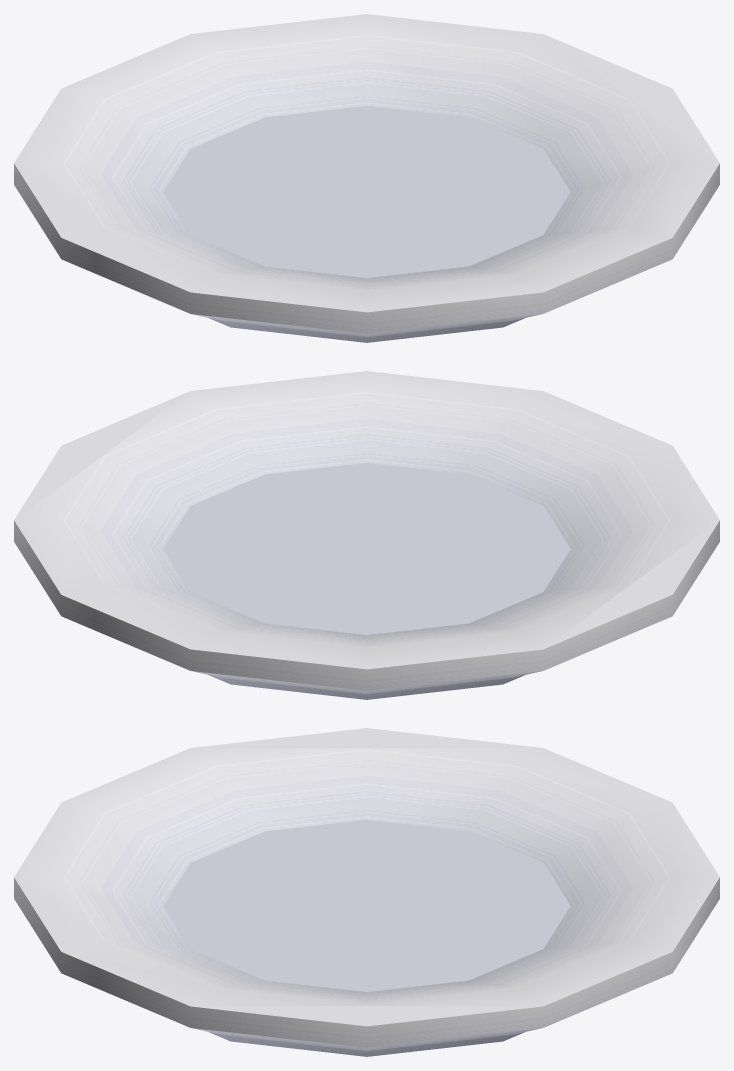
Rendered from plate.glb.
3 renders of one model, top to bottom at view 1: azimuth 30°, elevation 25°; view 2: azimuth 150°, elevation 25°; view 3: azimuth 270°, elevation 25°, orthographic.
Parts seen in each view (by area): view 1: plate; view 2: plate; view 3: plate.
Part boxes in pixels (<box>): plate: <box>14,14,719,342</box>; plate: <box>14,371,719,699</box>; plate: <box>14,728,719,1056</box>.
Size of the model in its own units: 0.8918 by 0.09 by 0.8918.
Materials: 1 (1 with a texture image).
